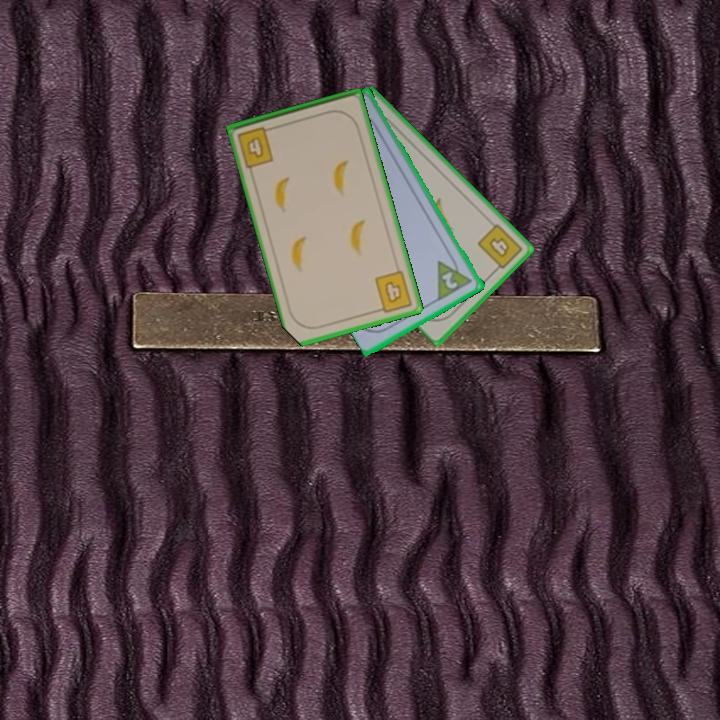2p: (439, 268, 461, 292)
4b: (474, 220, 526, 276), (371, 267, 416, 315), (234, 123, 278, 171)
